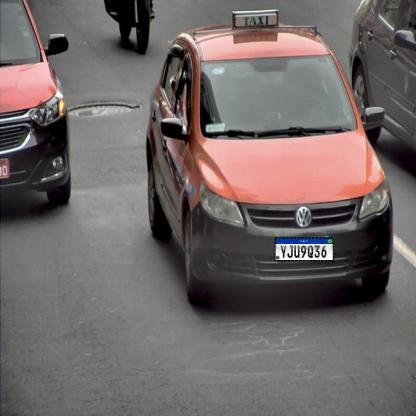PlacaM: (274, 237, 334, 262)
